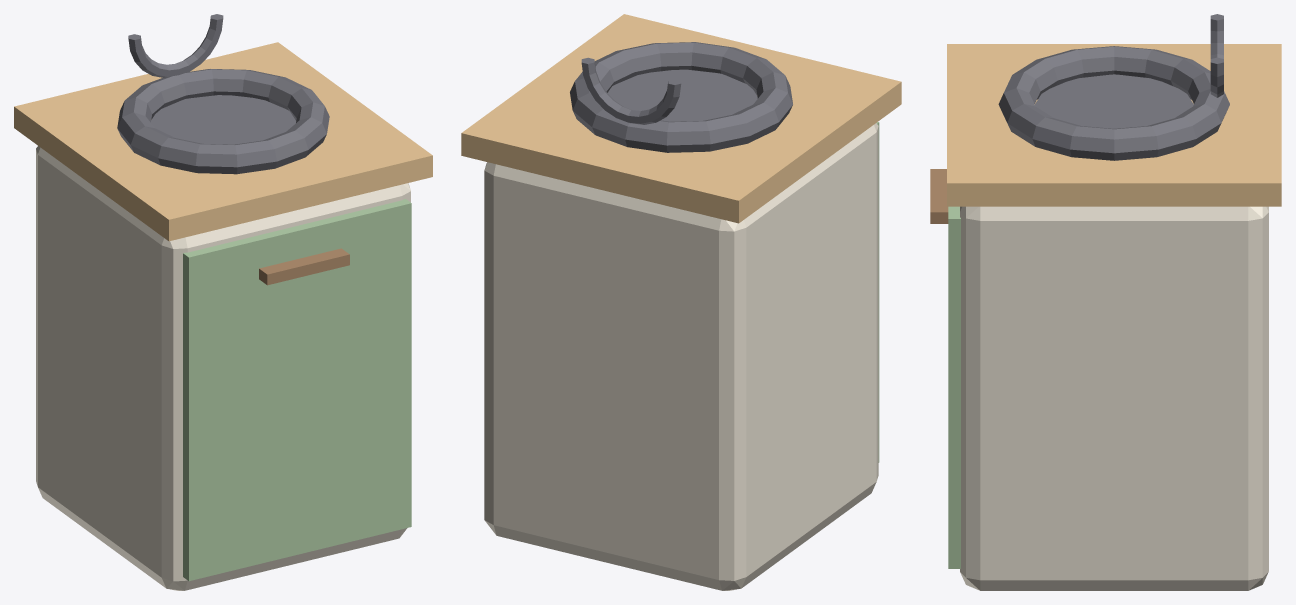
The model's file is cozy-home-interiors-sink-unit-59e9337d.glb.
3 renders of one model, left to right at view 1: azimuth 30°, elevation 25°; view 2: azimuth 150°, elevation 25°; view 3: azimuth 270°, elevation 25°, orthographic. The views are drawn at different scales.
Parts seen in each view (by area): view 1: sink-unit; view 2: sink-unit; view 3: sink-unit.
Boxes of the visible parts, box(x1,y1,x2,y2) form: sink-unit: box(14, 14, 432, 590); sink-unit: box(461, 14, 901, 590); sink-unit: box(930, 14, 1281, 590).
Bounding box in the file's own units: 0.64 × 1.06 × 0.6825.
